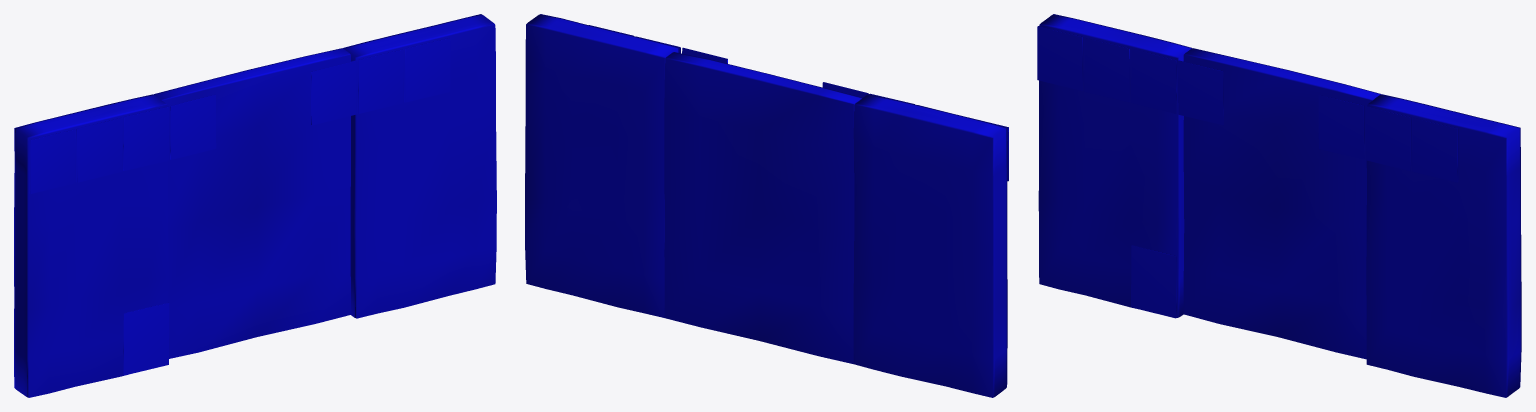
File: tower_bay_solid.glb
The picture shows the model from 3 angles, left to right: view 1: azimuth 30°, elevation 25°; view 2: azimuth 150°, elevation 25°; view 3: azimuth 330°, elevation 25°; orthographic projection.
Parts seen in each view (by area): view 1: tower_bay_solid; view 2: tower_bay_solid; view 3: tower_bay_solid.
Boxes of the visible parts, x1,y1,x2,y2 form: tower_bay_solid: [14, 14, 496, 397]; tower_bay_solid: [525, 14, 1008, 397]; tower_bay_solid: [1037, 14, 1521, 397].
Size of what is drawn, in the model's own units: 6.01 by 3.21 by 0.3803.
